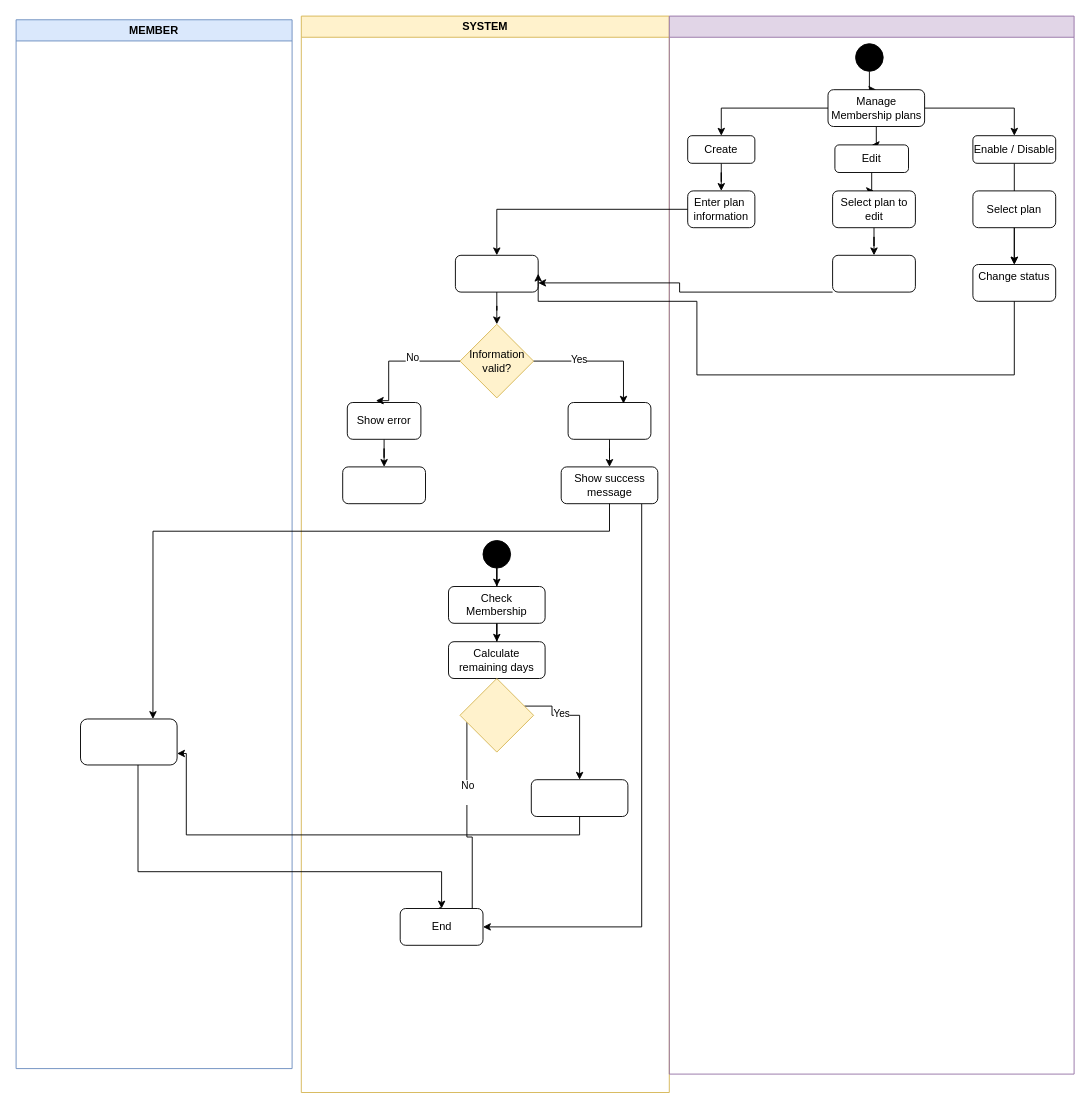
Some shapes in this 1090 by 1109 pixel diagram are drawn without their labels. The shapes that lost their labels are listed below. From the top down, each one's box as (x1, y1, x2, y2) in pixels, then its label:
(454, 254, 538, 292): Validate plan information
(832, 254, 915, 292): Enter new information
(567, 402, 651, 439): Save plan information
(342, 466, 426, 504): Re-enter
(668, 15, 1074, 1074): CENTER MANAGER
(459, 678, 534, 752): ≤ N days left?
(80, 718, 177, 765): Receive notification
(530, 779, 628, 816): Send renewal reminder
